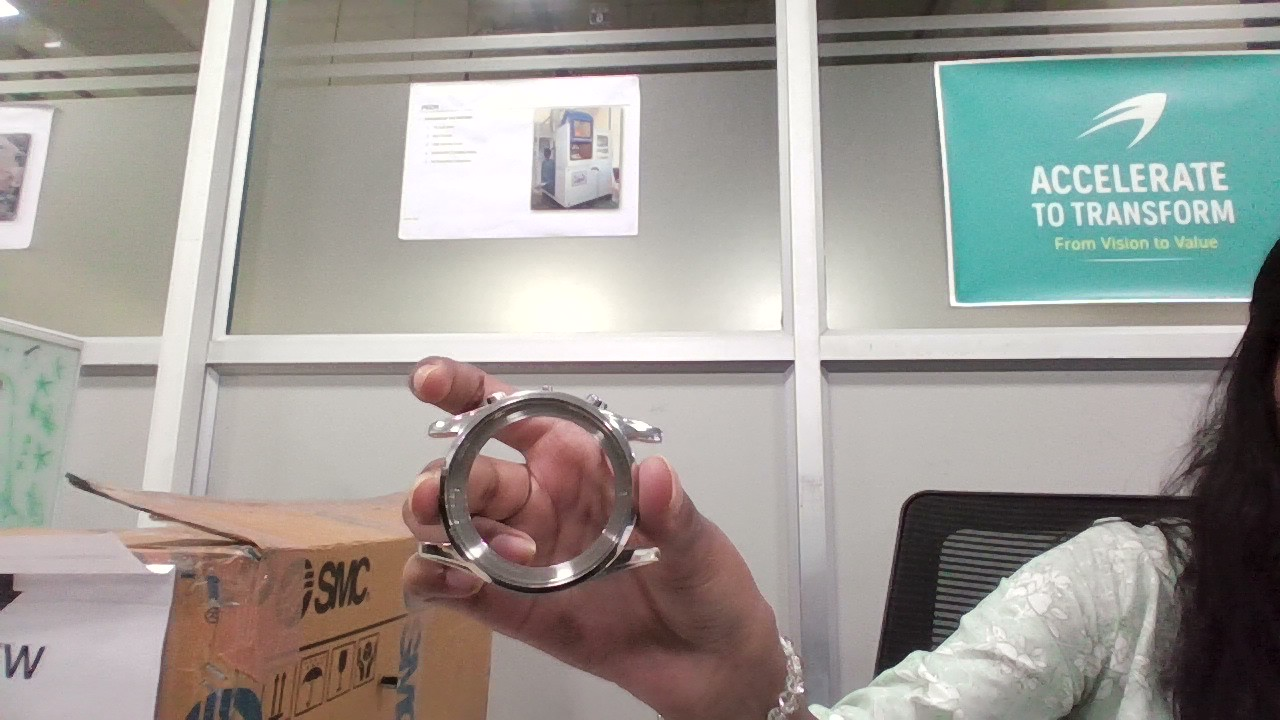case1: (419, 384, 664, 589)
